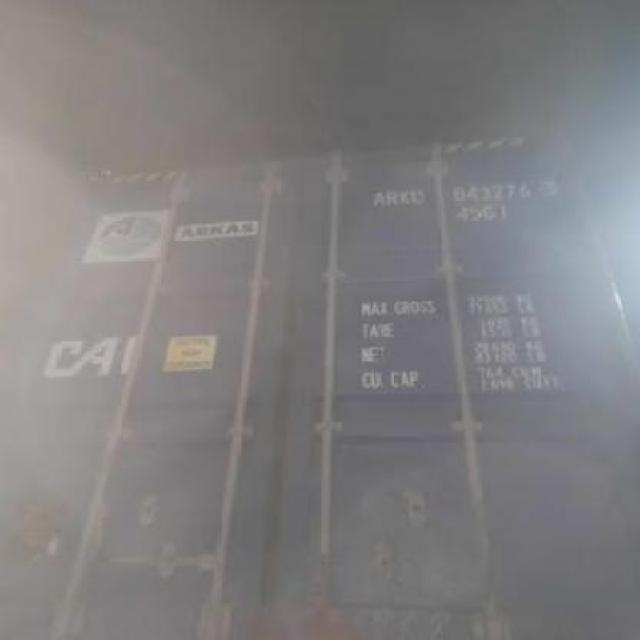ISO: (446, 198, 519, 227)
container_number: (362, 180, 565, 206)
